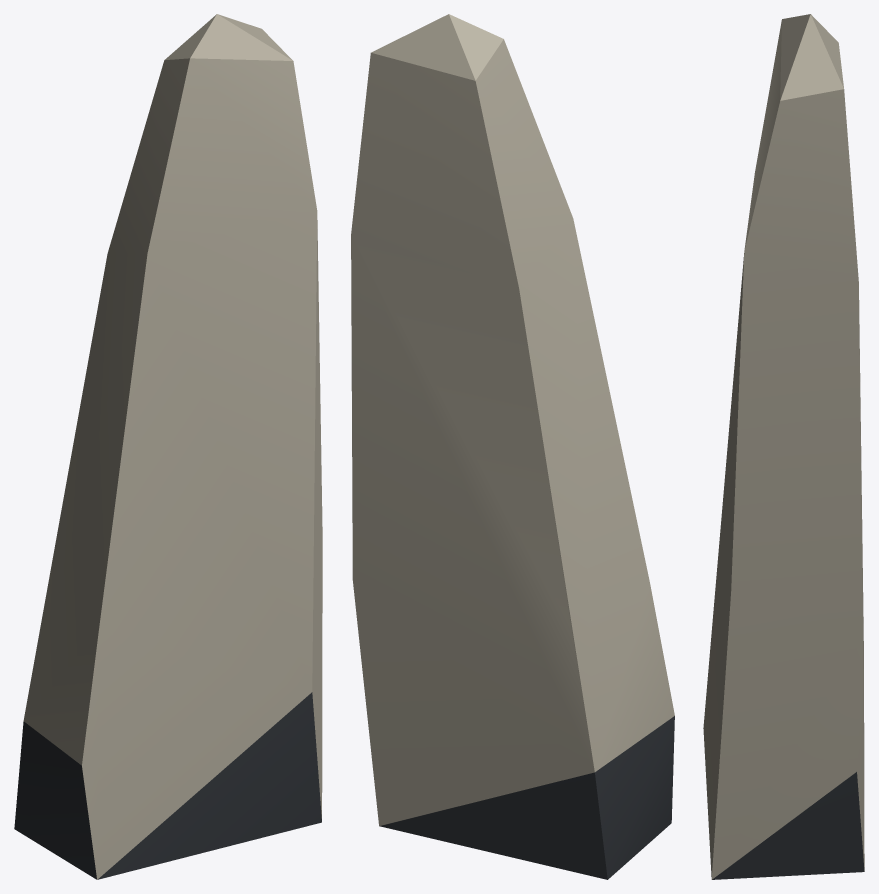
Rendered from StandingStoneA.fbx.
The picture shows the model from 3 angles, left to right: view 1: azimuth 30°, elevation 25°; view 2: azimuth 150°, elevation 25°; view 3: azimuth 270°, elevation 25°; orthographic projection. The views are drawn at different scales.
Parts seen in each view (by area): view 1: StandingStoneA; view 2: StandingStoneA; view 3: StandingStoneA.
Part boxes in pixels (box(x1,y1,x2,y2)): StandingStoneA: box(14, 14, 322, 879); StandingStoneA: box(351, 14, 674, 879); StandingStoneA: box(703, 14, 864, 879).
Bounding box in the file's own units: 0.7605 × 2.27 × 0.3965.
